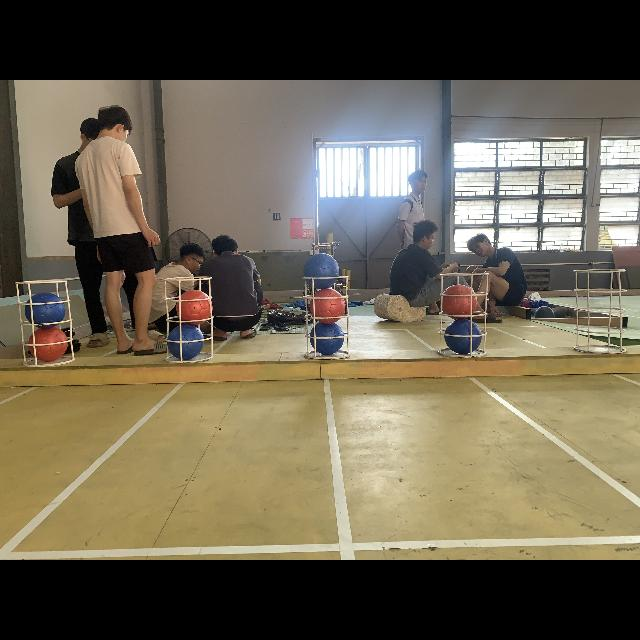B: (26, 294, 66, 328), (304, 253, 341, 289), (310, 319, 346, 356), (443, 320, 482, 354), (166, 326, 204, 360)
R: (29, 326, 69, 364), (176, 290, 214, 328), (441, 284, 477, 320), (310, 290, 346, 324)
